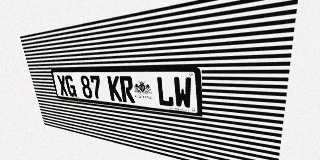7: (89, 76, 103, 100)
8: (79, 75, 93, 99)
G: (64, 75, 77, 97)
K: (107, 76, 122, 102)
L: (156, 76, 174, 107)
R: (119, 76, 135, 103)
W: (173, 77, 192, 109)
X: (56, 75, 69, 96)
